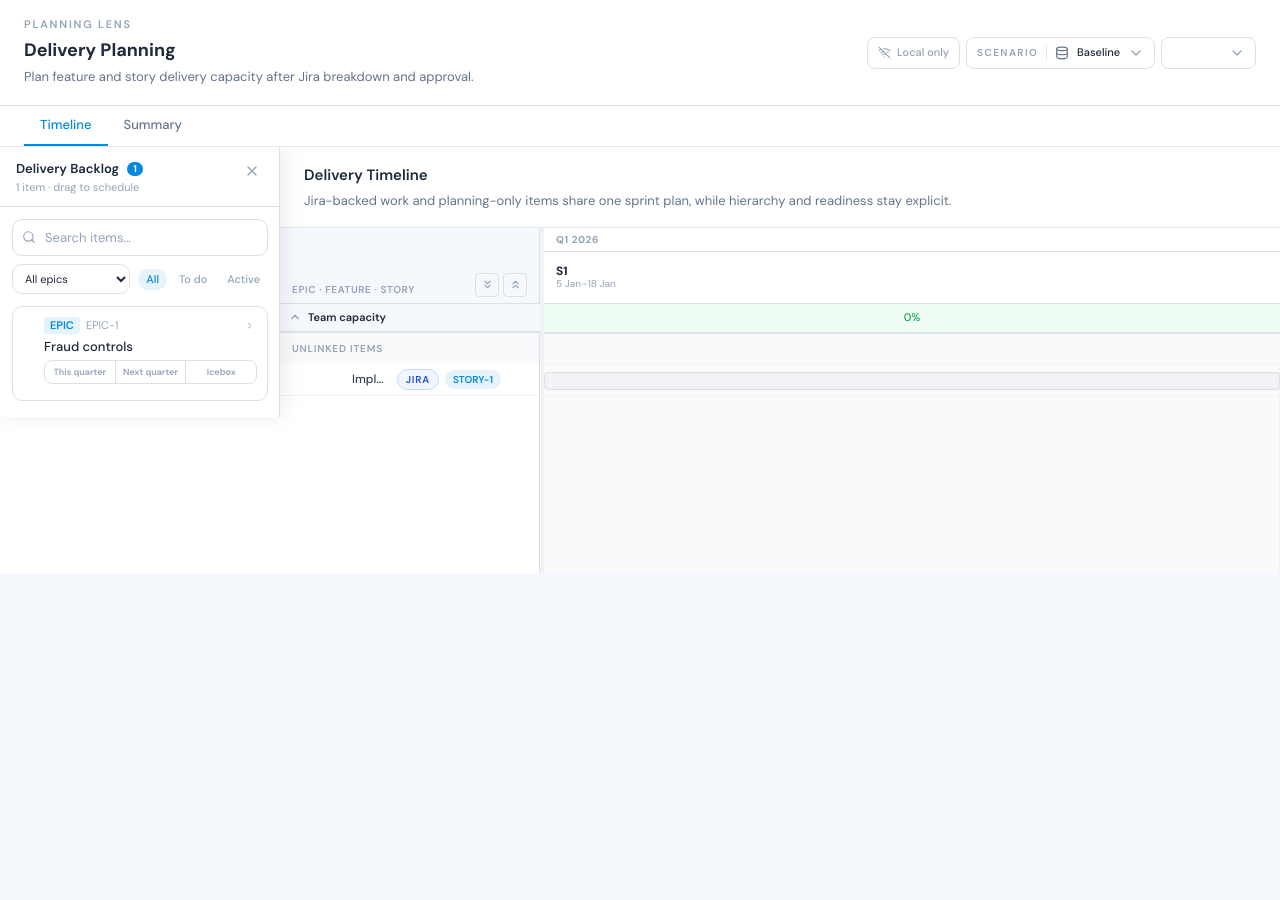
Test: ScenarioPlanner render › uses a working timeline and summary tab layout without the old header pills or sidebar cards
Click the button "Summary" at (153, 126), box [108,106,198,146]
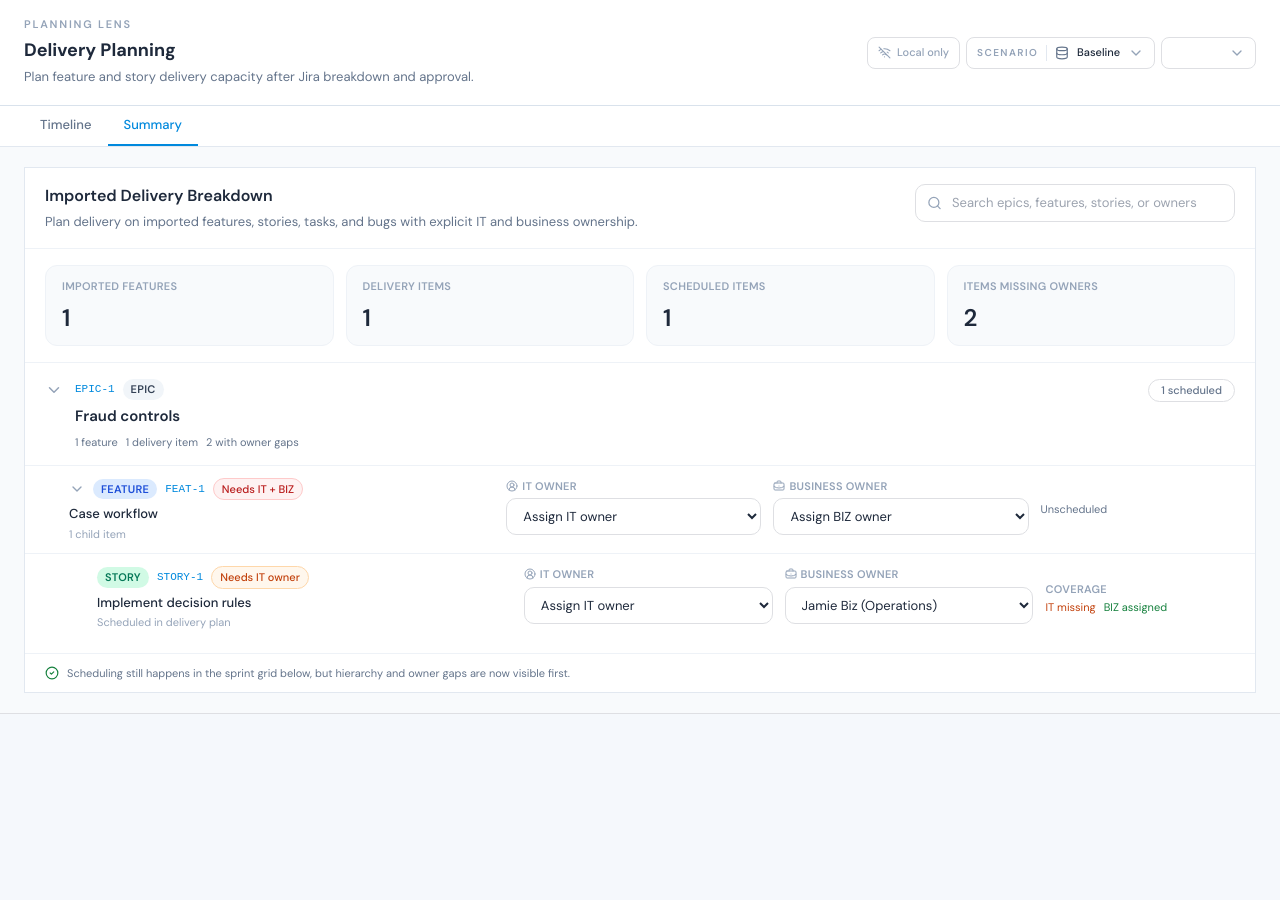
Now the text "Imported Delivery Breakdown" is shown, box [45,185,273,206]
Now the text "imported features" is shown, box [45,213,638,230]
Now the text "Scheduled items" is shown, box [663,278,766,292]
Click the button "Timeline" at (66, 126), box [24,106,108,146]
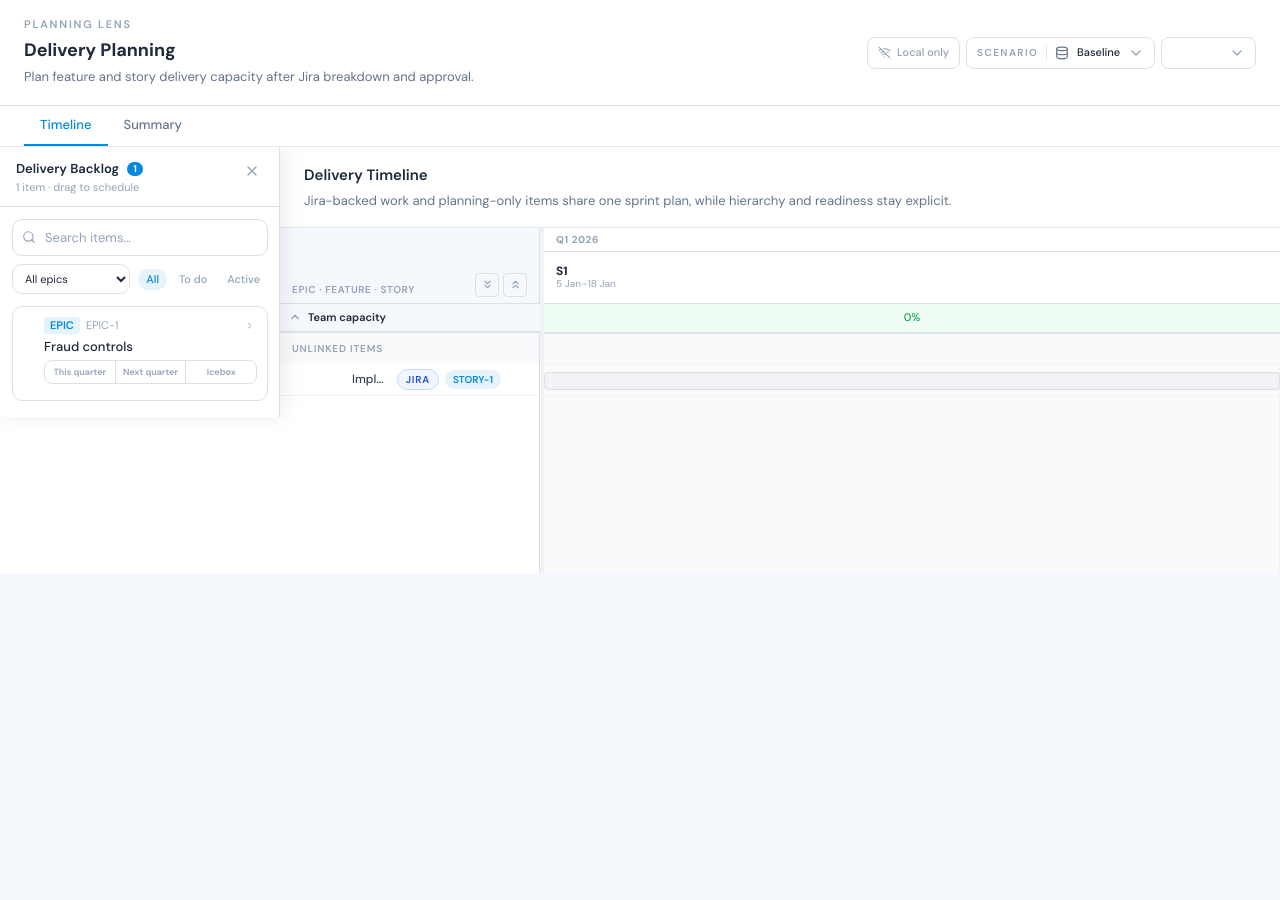
Now the text "Delivery Backlog" is shown, box [16,159,119,178]
Now the text "Delivery Timeline" is shown, box [304,165,428,185]
Now the text "Imported Delivery Breakdown" is gone
